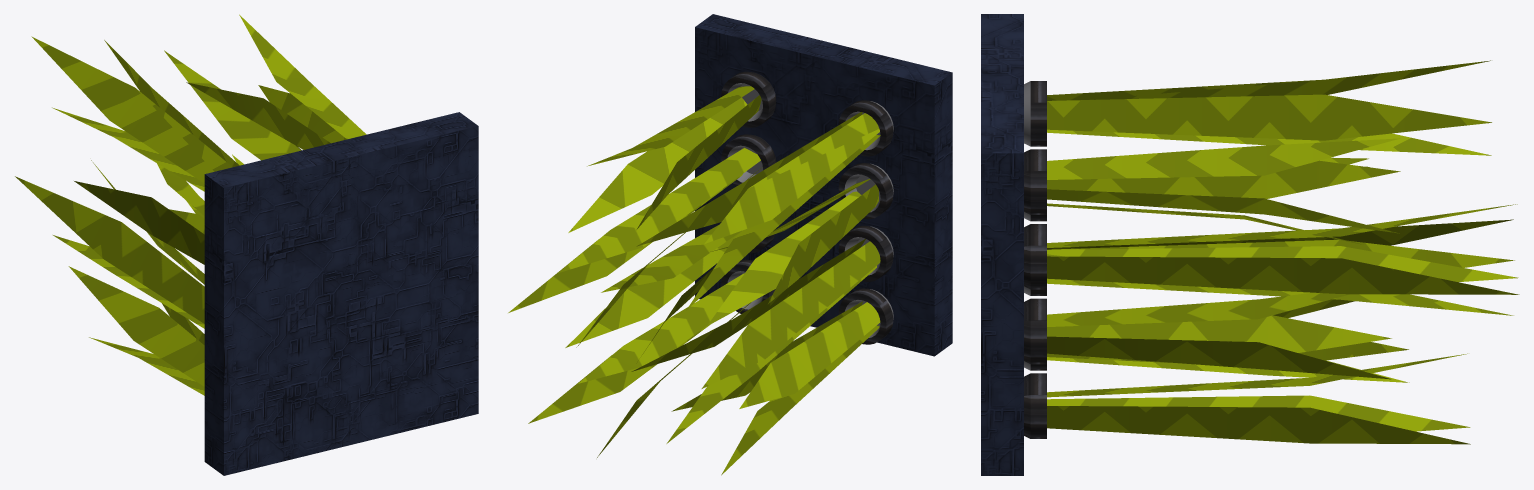
File: lightning.glb
The picture shows the model from 3 angles, left to right: view 1: azimuth 30°, elevation 25°; view 2: azimuth 150°, elevation 25°; view 3: azimuth 270°, elevation 25°; orthographic projection. The views are drawn at different scales.
Parts seen in each view (by area): view 1: block, plant_small (×6); view 2: plant_small (×8), block, detail_lightRow% (×2); view 3: plant_small (×8), block, detail_lightRow% (×2).
Boxes of the visible parts, x1=… form: block: x1=204, y1=112, x2=478, y2=475; plant_small (×6): x1=15, y1=14, x2=366, y2=395; plant_small (×8): x1=508, y1=86, x2=880, y2=475; block: x1=695, y1=14, x2=952, y2=356; detail_lightRow% (×2): x1=721, y1=71, x2=893, y2=344; plant_small (×8): x1=1047, y1=60, x2=1519, y2=444; block: x1=981, y1=14, x2=1023, y2=475; detail_lightRow% (×2): x1=1024, y1=81, x2=1046, y2=438.
Bounding box in the file's own units: 1 × 1.13 × 1.63.
15 materials, 12 textured.
